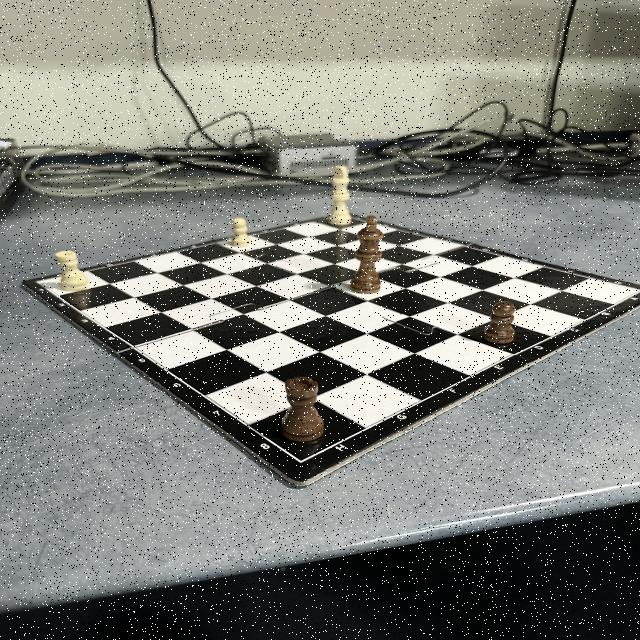Black-King: (350, 214, 383, 294)
Black-Pawn: (486, 301, 514, 344)
Black-Rook: (282, 377, 321, 439)
White-King: (330, 165, 352, 227)
White-Pawn: (230, 216, 248, 246)
White-Rook: (55, 250, 87, 290)
